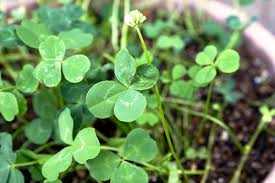4-clover: (87, 50, 157, 121)
